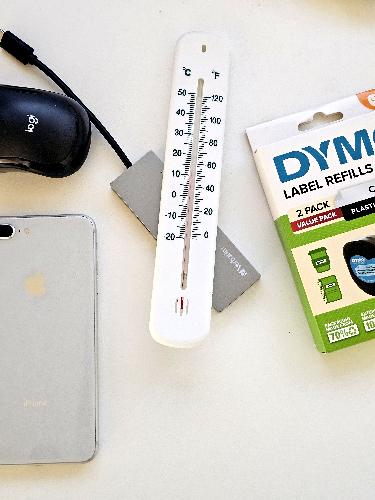thermo: (145, 40, 246, 346)
